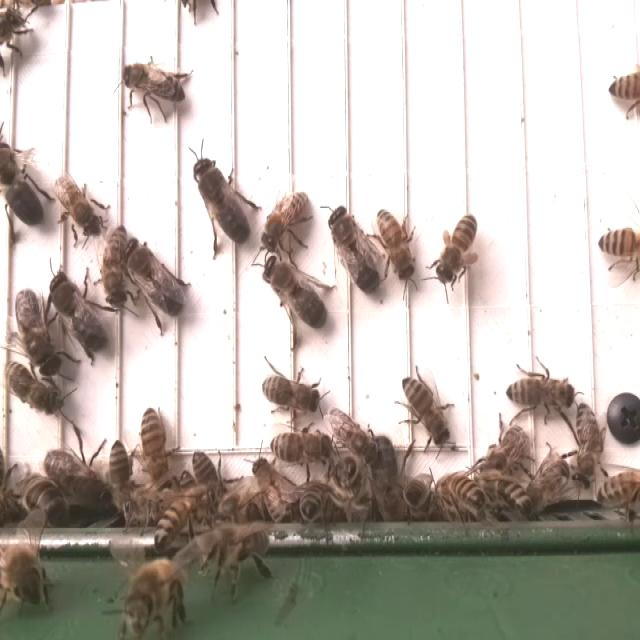Drone: (120, 232, 190, 318), (48, 266, 109, 359), (190, 154, 251, 247), (262, 253, 330, 330), (326, 204, 381, 299), (41, 446, 113, 512), (13, 285, 63, 378), (0, 137, 46, 230), (369, 430, 403, 522)
Worker: (1, 360, 65, 424), (401, 372, 451, 447), (118, 57, 188, 109), (258, 187, 312, 250), (49, 170, 100, 234), (570, 400, 606, 490), (434, 213, 478, 286), (376, 203, 415, 282), (139, 400, 171, 495), (503, 372, 574, 414), (260, 371, 323, 418), (251, 454, 294, 522), (328, 403, 375, 463), (266, 429, 335, 468), (101, 227, 130, 309), (436, 471, 490, 511), (594, 224, 640, 266), (109, 437, 134, 514)
